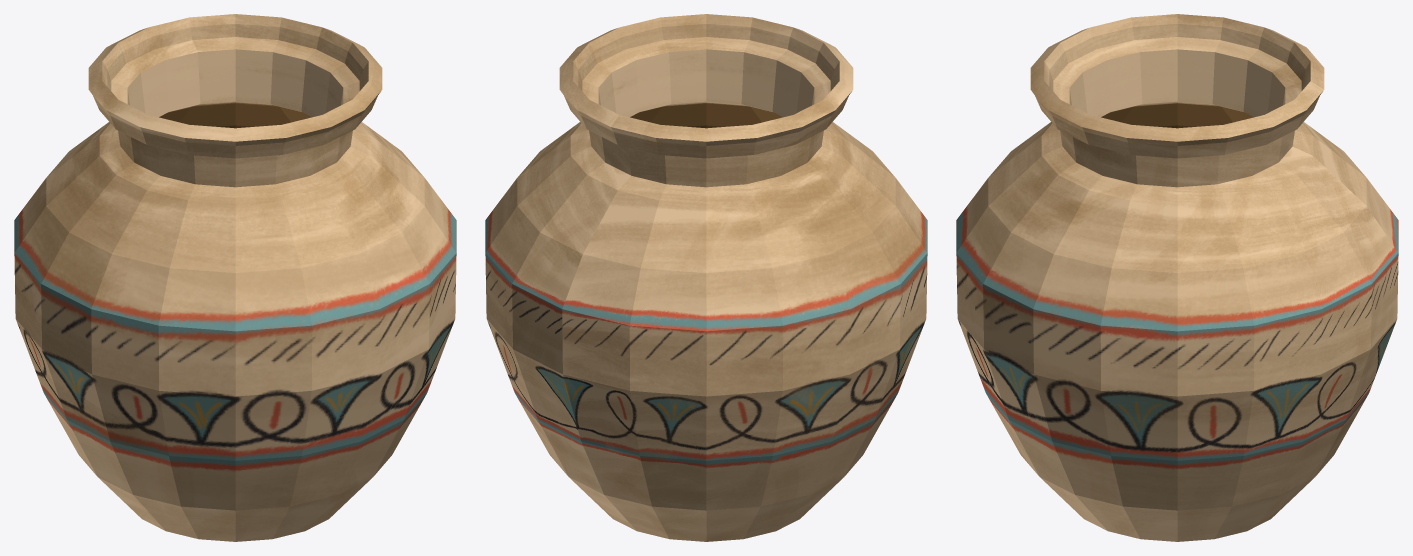
The model's file is waza.fbx.
3 renders of one model, left to right at view 1: azimuth 30°, elevation 25°; view 2: azimuth 150°, elevation 25°; view 3: azimuth 270°, elevation 25°, orthographic.
Visible parts, largest first — view 1: Cylinder001; view 2: Cylinder001; view 3: Cylinder001.
Boxes of the visible parts, x1=… form: Cylinder001: x1=14, y1=14, x2=456, y2=541; Cylinder001: x1=485, y1=14, x2=927, y2=541; Cylinder001: x1=956, y1=14, x2=1398, y2=541.
Size of the model in its own units: 34.32 by 33.8 by 37.02.
